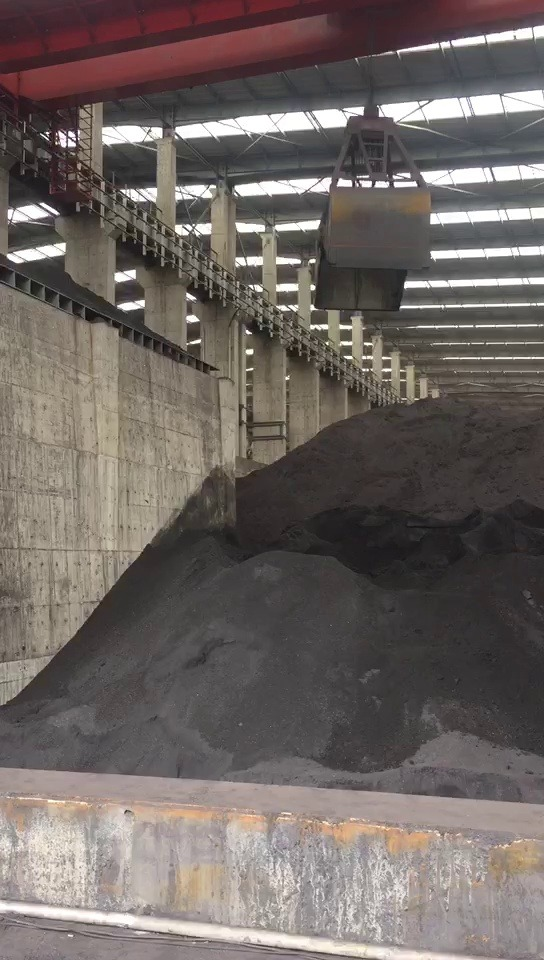grab: (309, 93, 443, 319)
